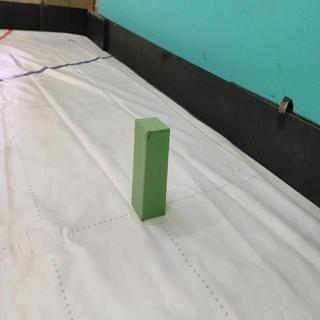greenbox: (131, 114, 172, 222)
